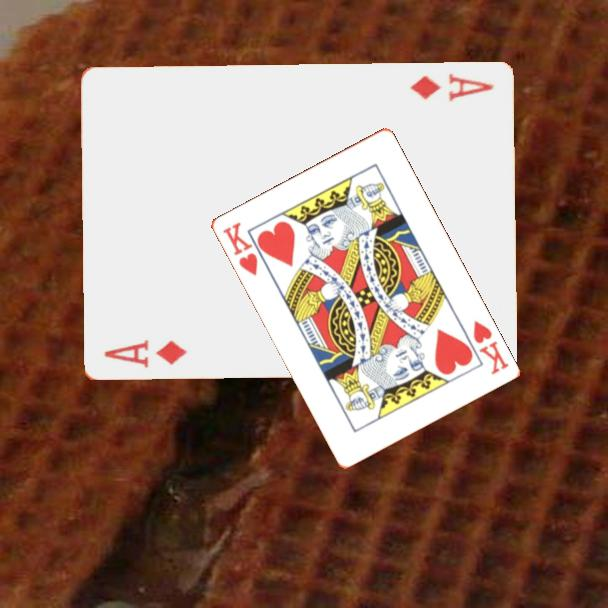d01: (406, 70, 496, 105), (100, 337, 190, 371)
h13: (469, 317, 512, 378), (219, 218, 260, 279)
